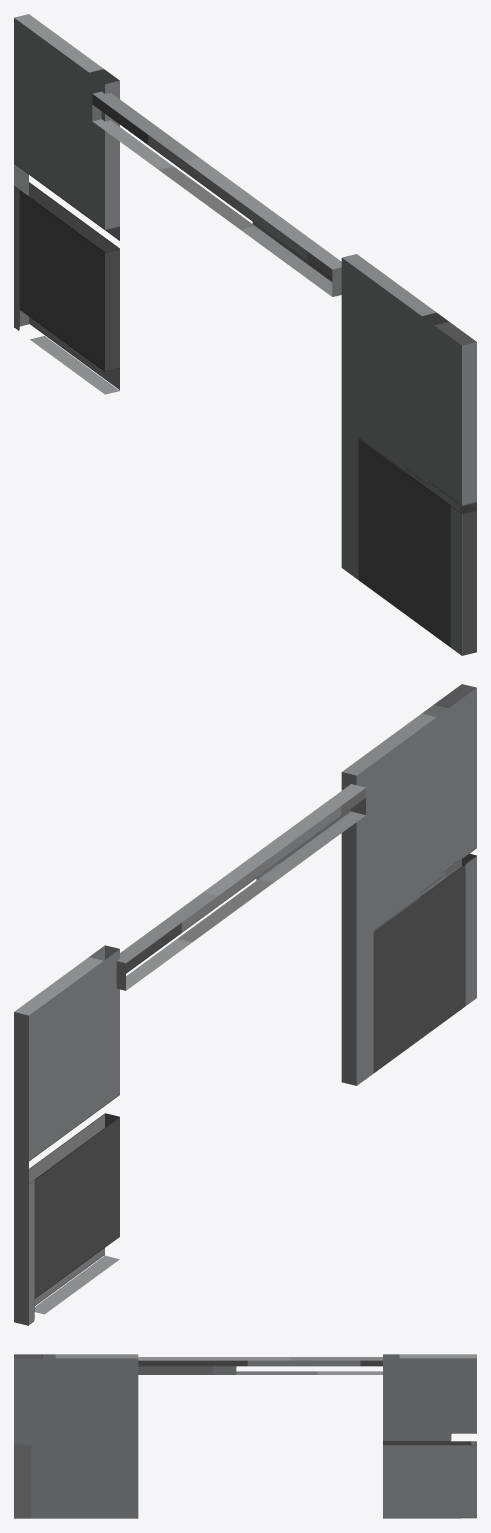
3 views of the same model, one above another, from view 1: azimuth 30°, elevation 25°; view 2: azimuth 150°, elevation 25°; view 3: azimuth 270°, elevation 25° (orthographic). The views are drawn at different scales.
Size of the model in its own units: 0.078 by 0.95 by 2.49.
